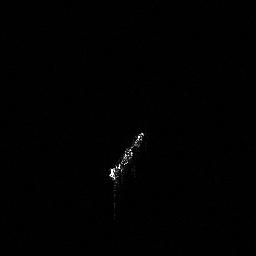ship: (106, 131, 144, 219)
